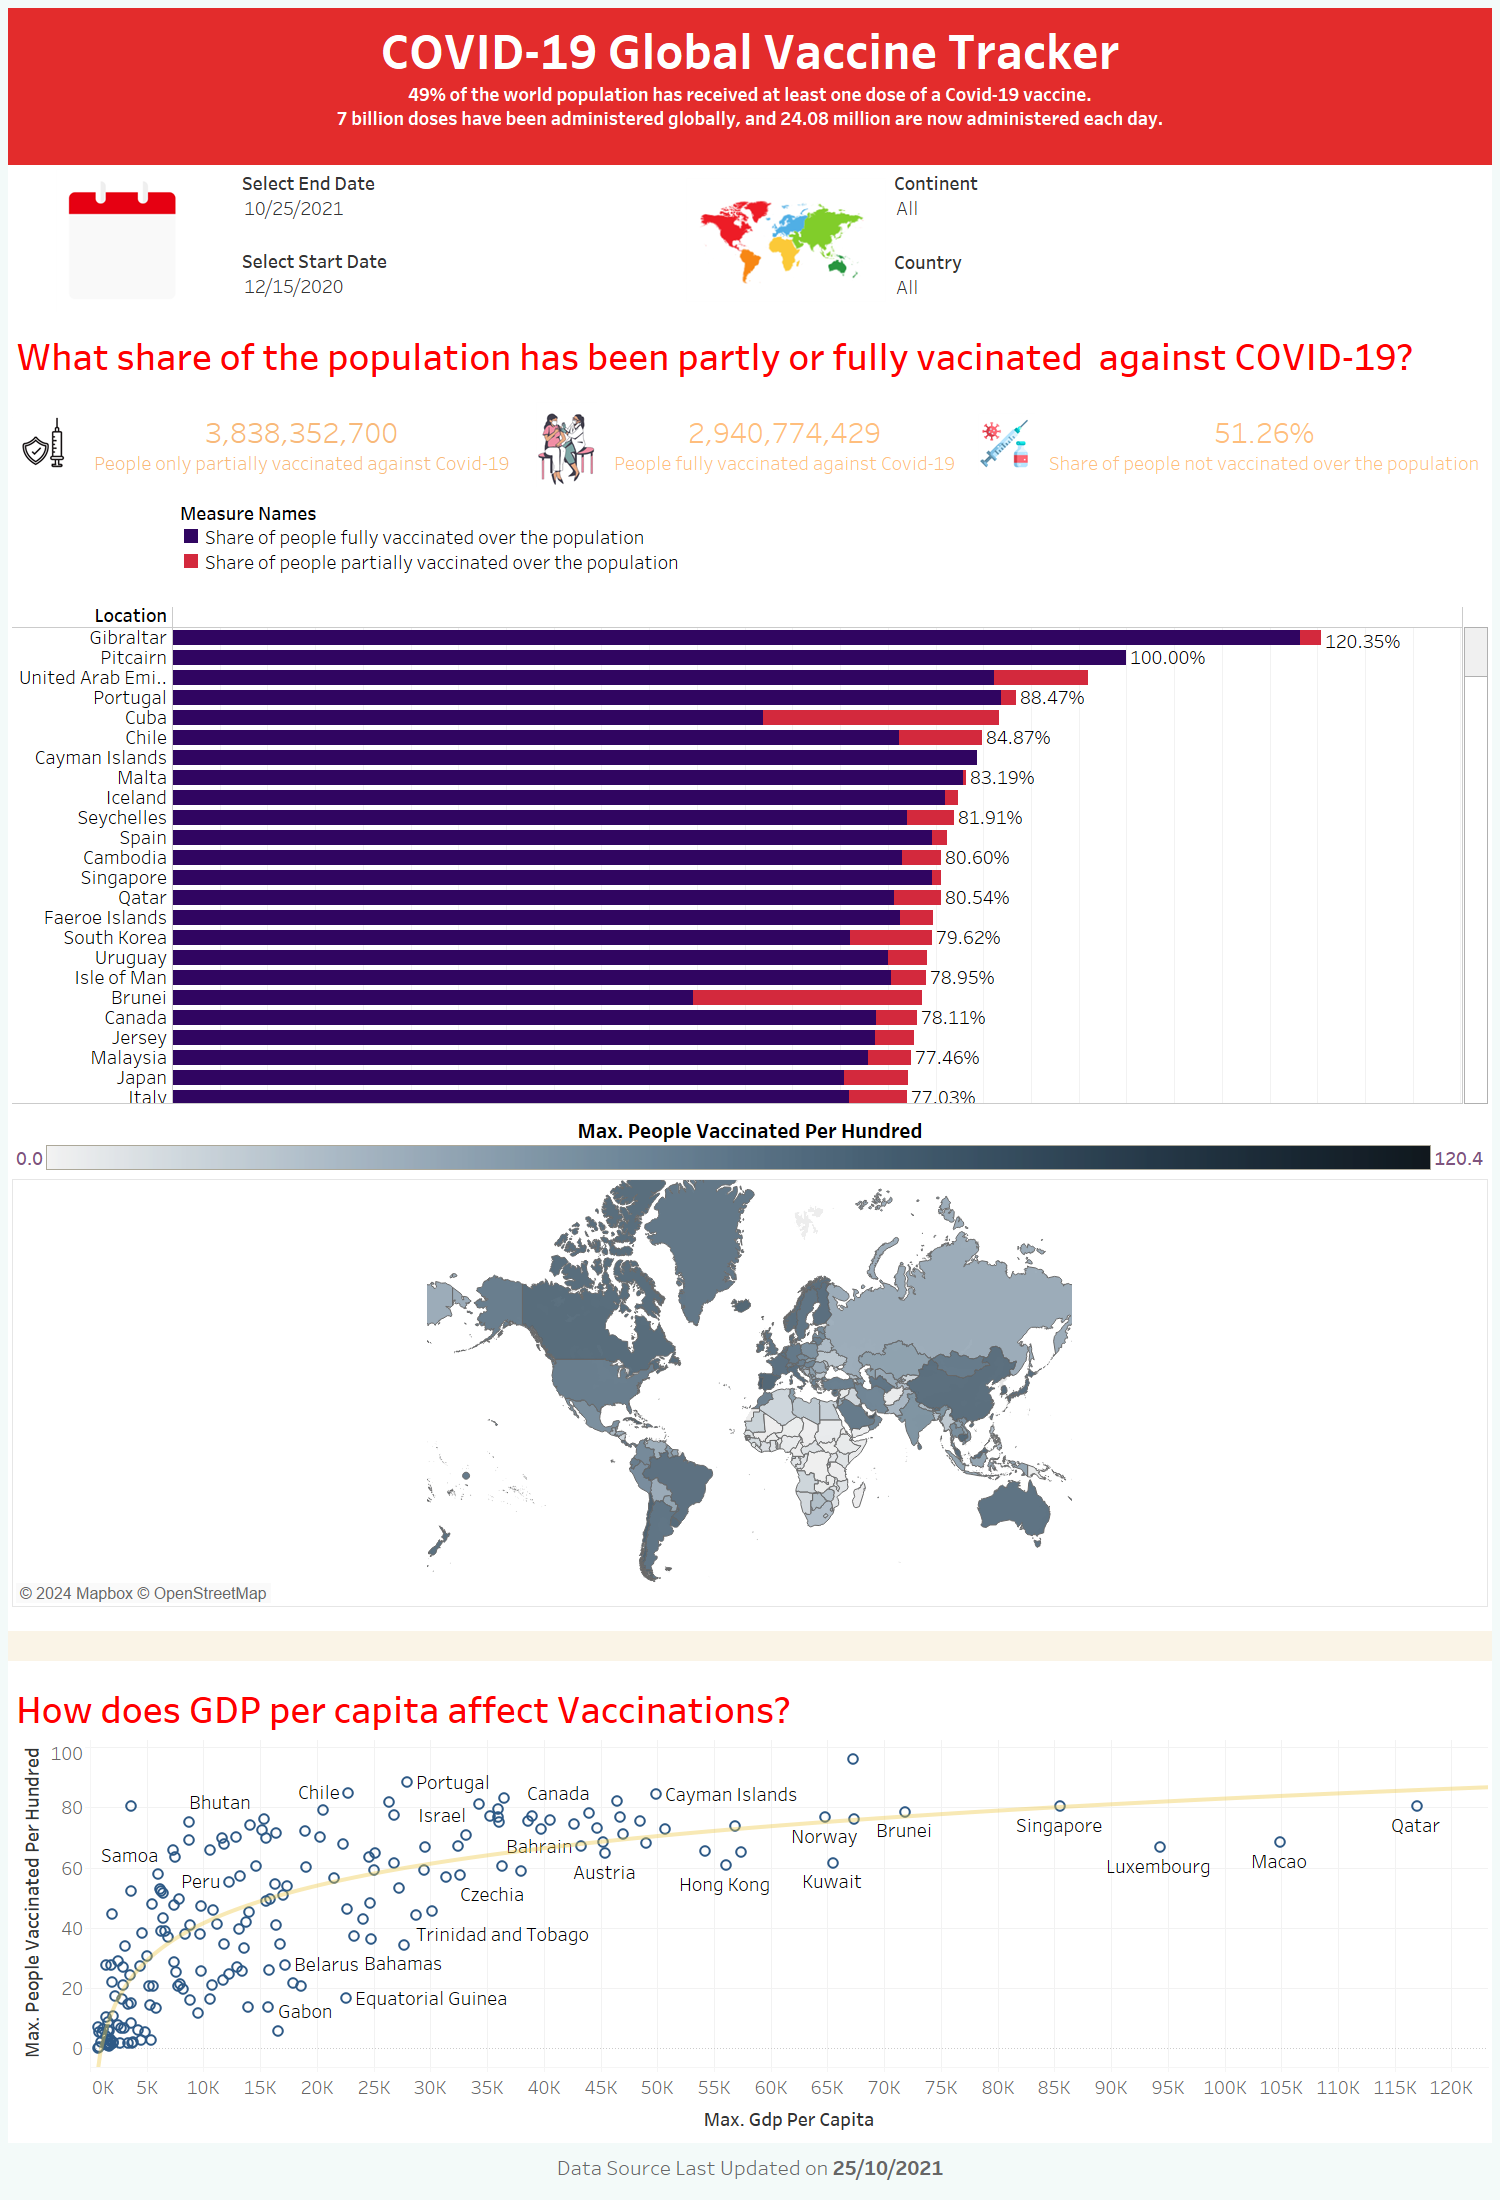

This screenshot's page, from the dashboard's own definition file:
{"tool":"tableau","page":{"name":"Dashboard 2","canvas":[1500,2200],"ordinal":1},"visuals":[{"type":"text","box":[8,8,1484,157]},{"type":"image","param":"C:/Users/hp/Pictures/Screenshots/Screenshot 2024-01-24 114217.png","box":[8,165,230.2,151]},{"type":"parameter","param":"[Parameters].[Select Start Date (copy)_3562065877622194179]","box":[238.2,165,443.6,78.5]},{"type":"image","param":"C:/Users/hp/Pictures/Screenshots/Screenshot 2024-01-24 114332.png","box":[681.7,165,208.5,151]},{"type":"filter","title":"KPI 1 - people partially vaccinated","param":"[federated.1aadtqk14qli1811abobz02u3i1x].[none:Continent:nk]","box":[890.2,165,601.8,79]},{"type":"parameter","param":"[Parameters].[Parameter 1]","box":[238.2,243.5,443.6,72.5]},{"type":"filter","title":"KPI 1 - people partially vaccinated","param":"[federated.1aadtqk14qli1811abobz02u3i1x].[none:Location (copy):nk]","box":[890.2,244,601.8,72]},{"type":"text","box":[8,316,1484,79]},{"type":"image","param":"C:/Users/hp/Pictures/Screenshots/Screenshot 2024-01-24 120140.png","box":[8,395,70,99]},{"type":"worksheet","title":"KPI 1 - people partially vaccinated","mark":"Automatic","box":[78,395,454,99]},{"type":"image","param":"C:/Users/hp/Pictures/Screenshots/Screenshot 2024-01-24 120336.png","box":[532,395,69,99]},{"type":"worksheet","title":"KPI 2 - people fully vaccinated","mark":"Automatic","box":[601,395,373,99]},{"type":"image","param":"C:/Users/hp/Pictures/Screenshots/Screenshot 2024-01-24 120456.png","box":[974,395,65,99]},{"type":"worksheet","title":"KPI 3 - Share of people not vaccinated over the population","mark":"Automatic","box":[1039,395,453,99]},{"type":"blank","box":[8,494,166.7,109]},{"type":"legend","title":"Vac vs Fully Vacc per location","param":"[federated.1aadtqk14qli1811abobz02u3i1x].[:Measure Names]","box":[174.7,494,1317.3,109]},{"type":"worksheet","title":"Vac vs Fully Vacc per location","mark":"Bar","rows":["Location"],"cols":["Calculation_3562065877612969984"],"box":[8,603,1484,504.7]},{"type":"legend","title":"Vaccination per hundread - Map","param":"[federated.1aadtqk14qli1811abobz02u3i1x].[max:People Vaccinated Per Hundred:qk]","box":[8,1107.7,1484,67]},{"type":"worksheet","title":"Vaccination per hundread - Map","mark":"Automatic","box":[8,1174.8,1484,436.5]},{"type":"text","box":[8,1681.2,1484,55]},{"type":"worksheet","title":"Vaccinated over GDP","mark":"Automatic","rows":["People Vaccinated Per Hundred"],"cols":["Gdp Per Capita"],"box":[8,1736.2,1484,406.5]},{"type":"text","box":[8,2142.7,1484,49.3]}]}

Visuals, with their boxes in screenshot pixels (x1, y1, x2, y2), scaled from the page's 1500x2200 canvas onto the 1500x2200 screenshot:
text: [8, 8, 1492, 165]
image: [8, 165, 238, 316]
parameter: [238, 165, 682, 244]
image: [682, 165, 890, 316]
"KPI 1 - people partially vaccinated" filter: [890, 165, 1492, 244]
parameter: [238, 244, 682, 316]
"KPI 1 - people partially vaccinated" filter: [890, 244, 1492, 316]
text: [8, 316, 1492, 395]
image: [8, 395, 78, 494]
"KPI 1 - people partially vaccinated" worksheet: [78, 395, 532, 494]
image: [532, 395, 601, 494]
"KPI 2 - people fully vaccinated" worksheet: [601, 395, 974, 494]
image: [974, 395, 1039, 494]
"KPI 3 - Share of people not vaccinated over the population" worksheet: [1039, 395, 1492, 494]
blank: [8, 494, 175, 603]
"Vac vs Fully Vacc per location" legend: [175, 494, 1492, 603]
"Vac vs Fully Vacc per location" worksheet (Bar marks): [8, 603, 1492, 1108]
"Vaccination per hundread - Map" legend: [8, 1108, 1492, 1175]
"Vaccination per hundread - Map" worksheet: [8, 1175, 1492, 1611]
text: [8, 1681, 1492, 1736]
"Vaccinated over GDP" worksheet: [8, 1736, 1492, 2143]
text: [8, 2143, 1492, 2192]
